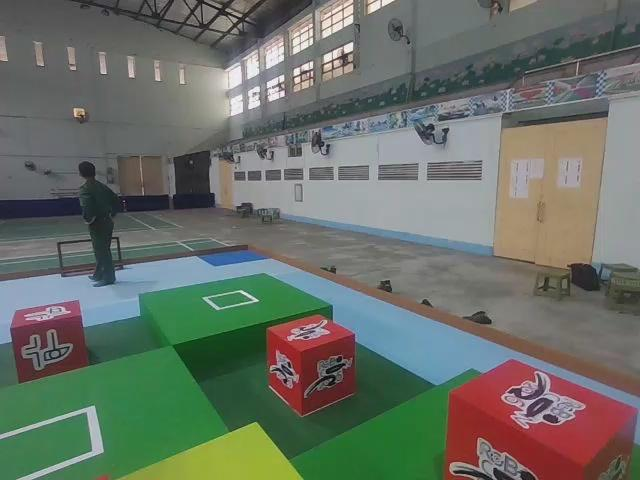R1: (449, 355, 637, 480), (266, 315, 358, 416)
R2 Real: (7, 301, 92, 386)
